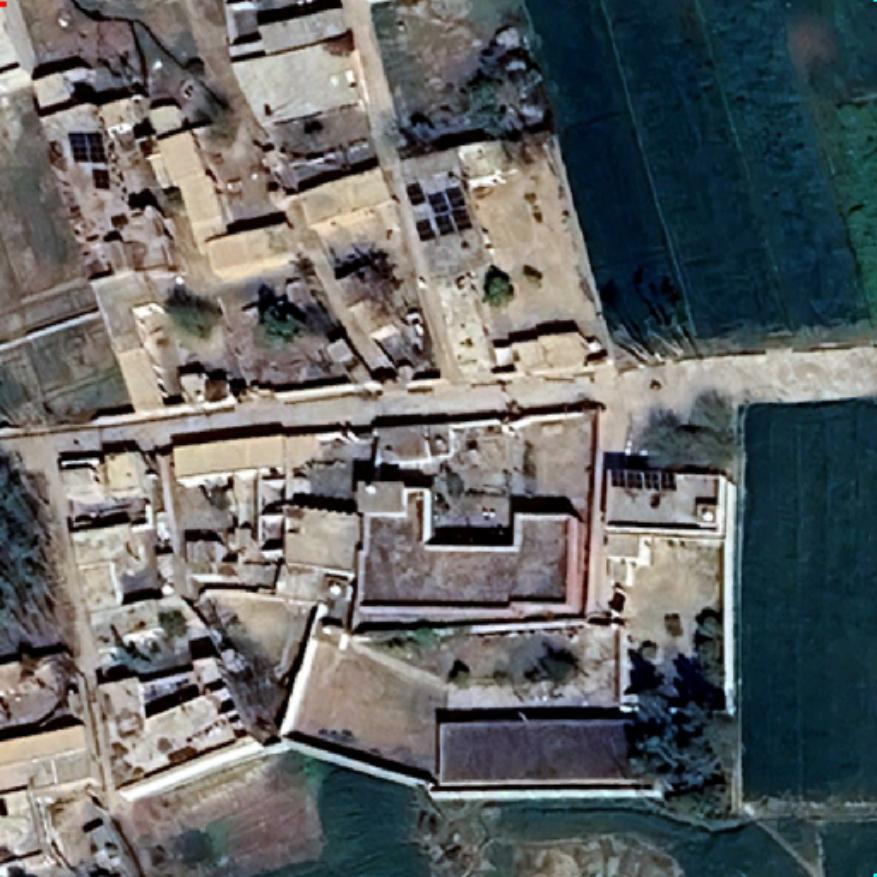Solarpanel: (423, 175, 478, 242), (606, 462, 680, 496), (64, 125, 112, 167), (410, 212, 440, 246), (401, 176, 429, 210), (88, 165, 114, 193)
